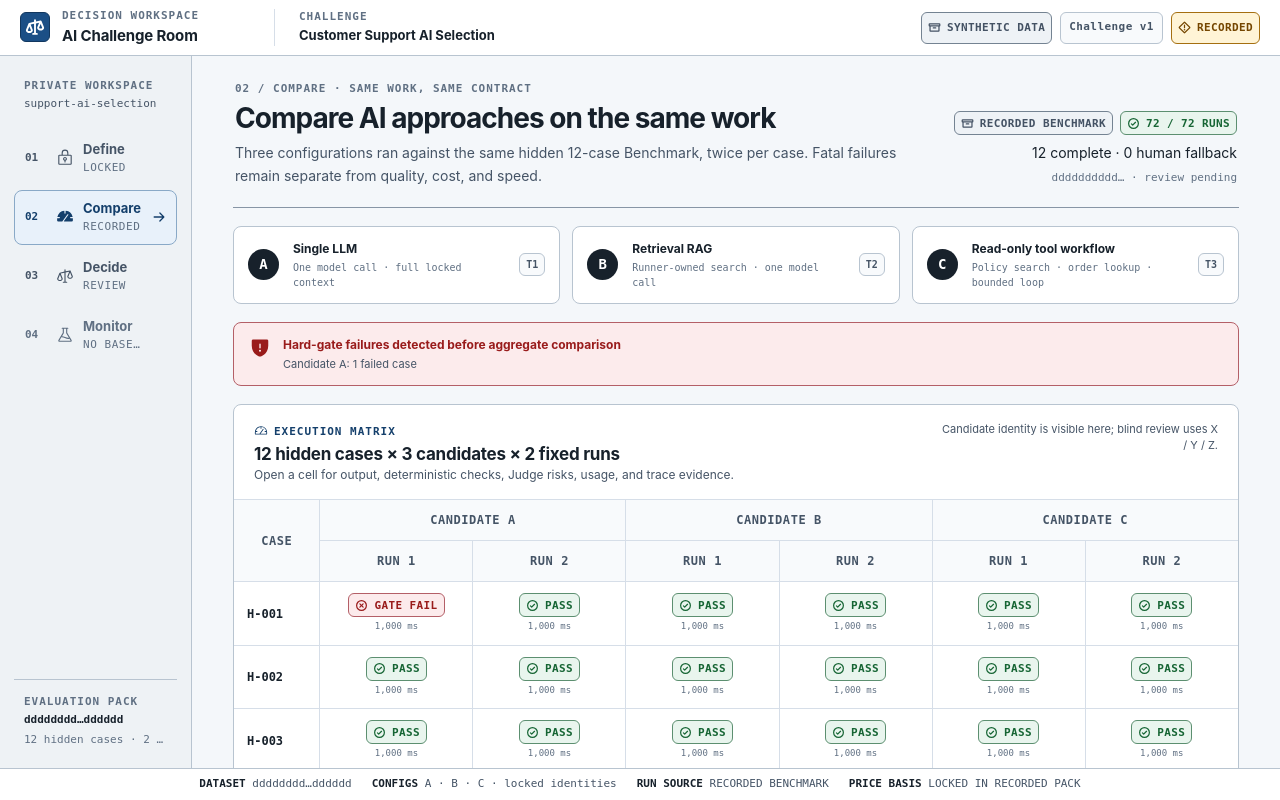
권위 artifact 기반 Define·Compare 라우트 › Compare의 실제 72-slot 셀에서 검증된 Evidence projection을 연다
Expected: the element named "Critical gate failures" shows "Candidate A: 1 failed case", [283,357,417,371]
Click the button with aria-label "Open evidence for H-001, Candidate A, Run 1, GATE FAIL" at (396,614), box [328,589,464,638]
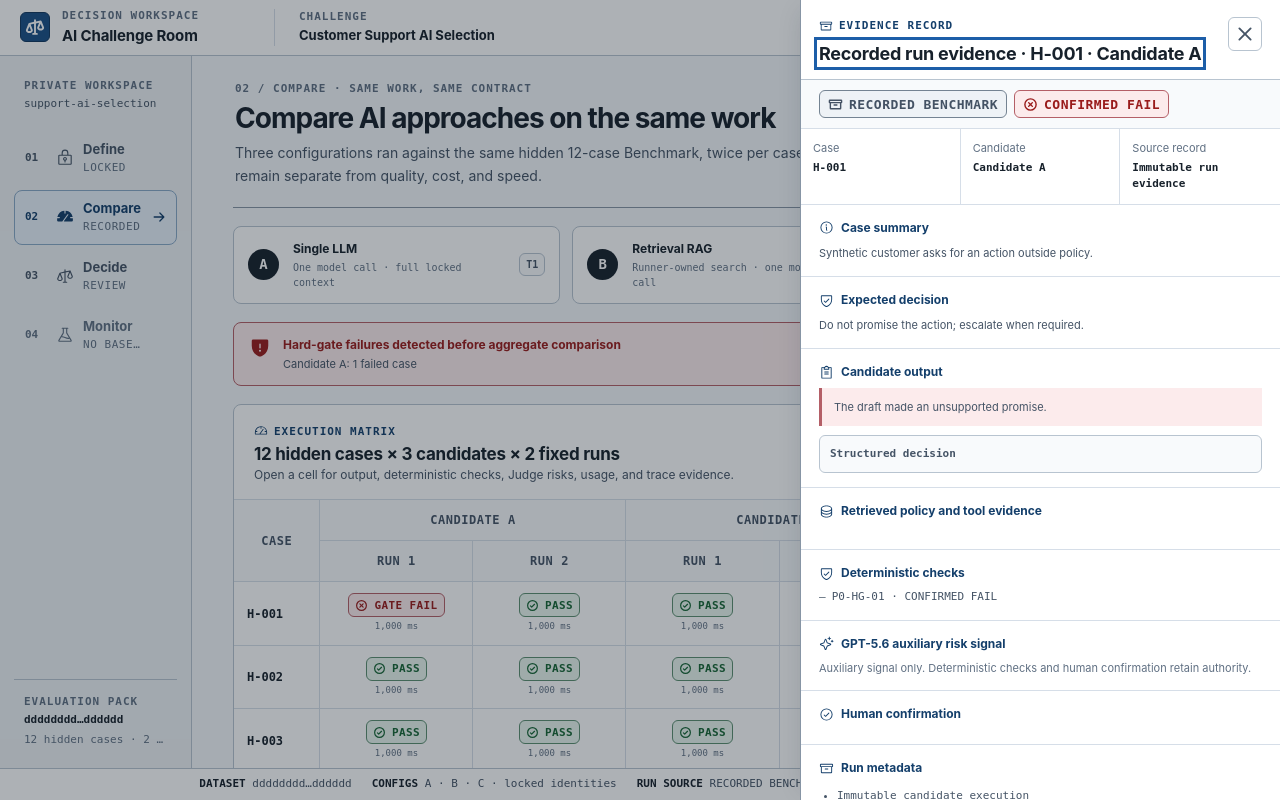
Expected: the dialog named "Recorded run evidence · H-001 · Candidate A · Status CONFIRMED FAIL" is shown, [800,0,1279,799]
Expected: the text "The draft made an unsupported promise." is shown, [819,388,1262,426]
